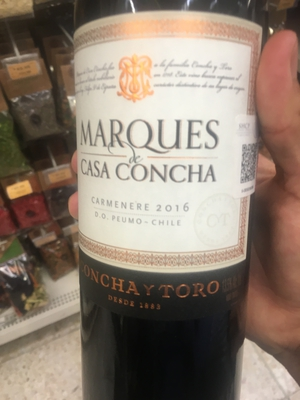marques de casa concha carmenere: (65, 6, 270, 400)
